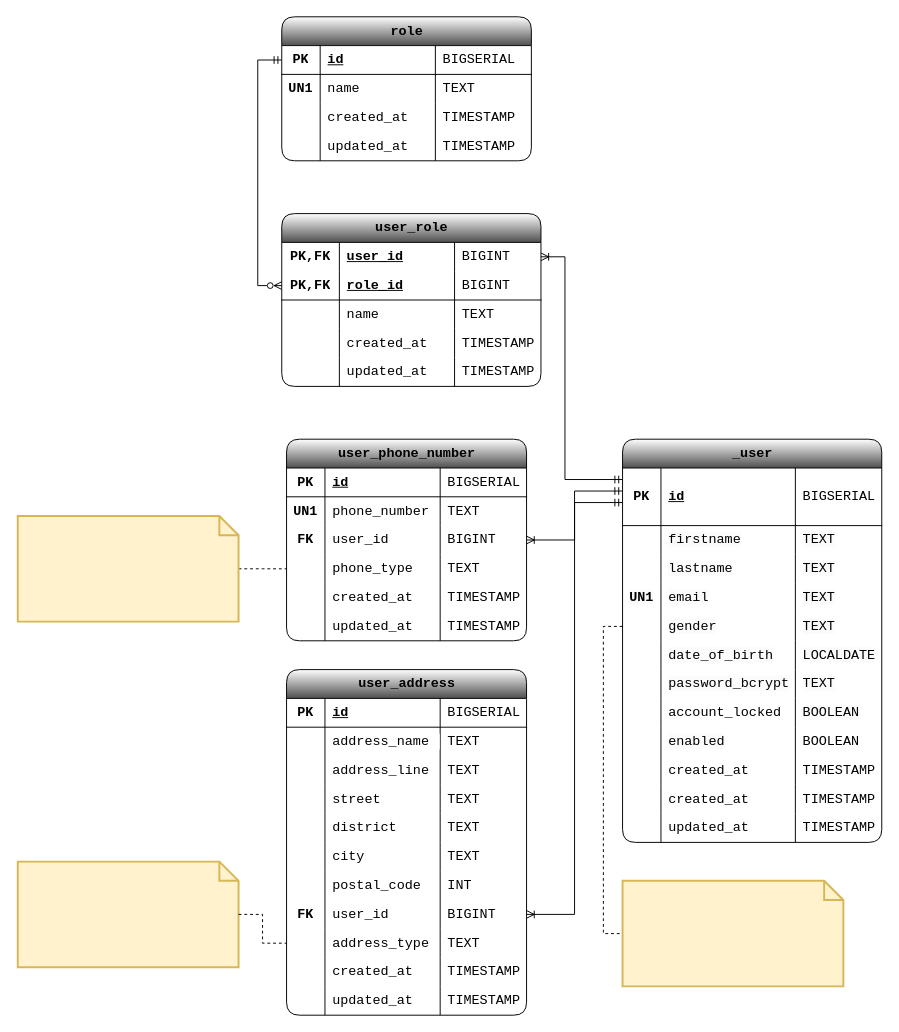
Some shapes in this 899 by 1032 pixel diagram are drawn without their labels. The centre of each missing label's shape, as x and y in pixels:
"ADDRESS_TYPE ENUM: HOME, WORK, OTHER" goes at pixel 127 914.
"GENDER ENUM: MALE, FEMALE" goes at pixel 732 933.
"PHONE_NUMBER_TYPE ENUM: HOME, MOBILE, WORK" goes at pixel 127 568.
